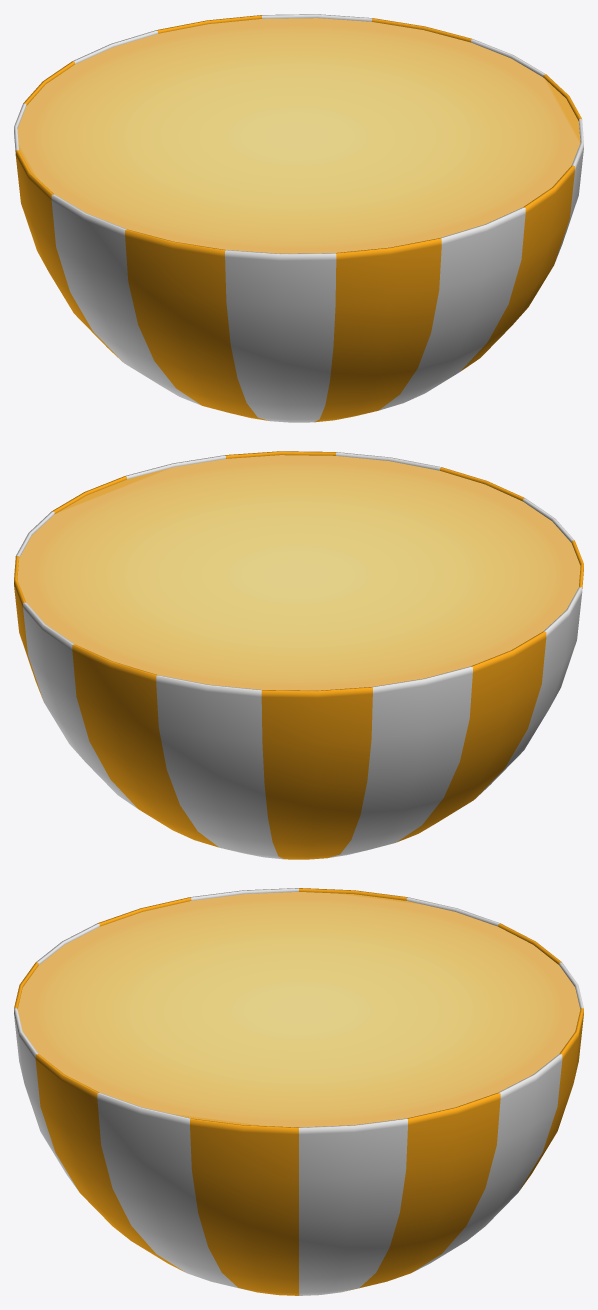
File: Stage.fbx
3 renders of one model, top to bottom at view 1: azimuth 30°, elevation 25°; view 2: azimuth 150°, elevation 25°; view 3: azimuth 270°, elevation 25°, orthographic.
Parts seen in each view (by area): view 1: Sphere.004; view 2: Sphere.004; view 3: Sphere.004.
Part boxes in pixels (left/top/right/bottom): Sphere.004: left=14, top=14, right=583, bottom=422; Sphere.004: left=14, top=451, right=583, bottom=859; Sphere.004: left=14, top=888, right=583, bottom=1295.
Size of the model in its own units: 11.41 by 5.77 by 11.41.
